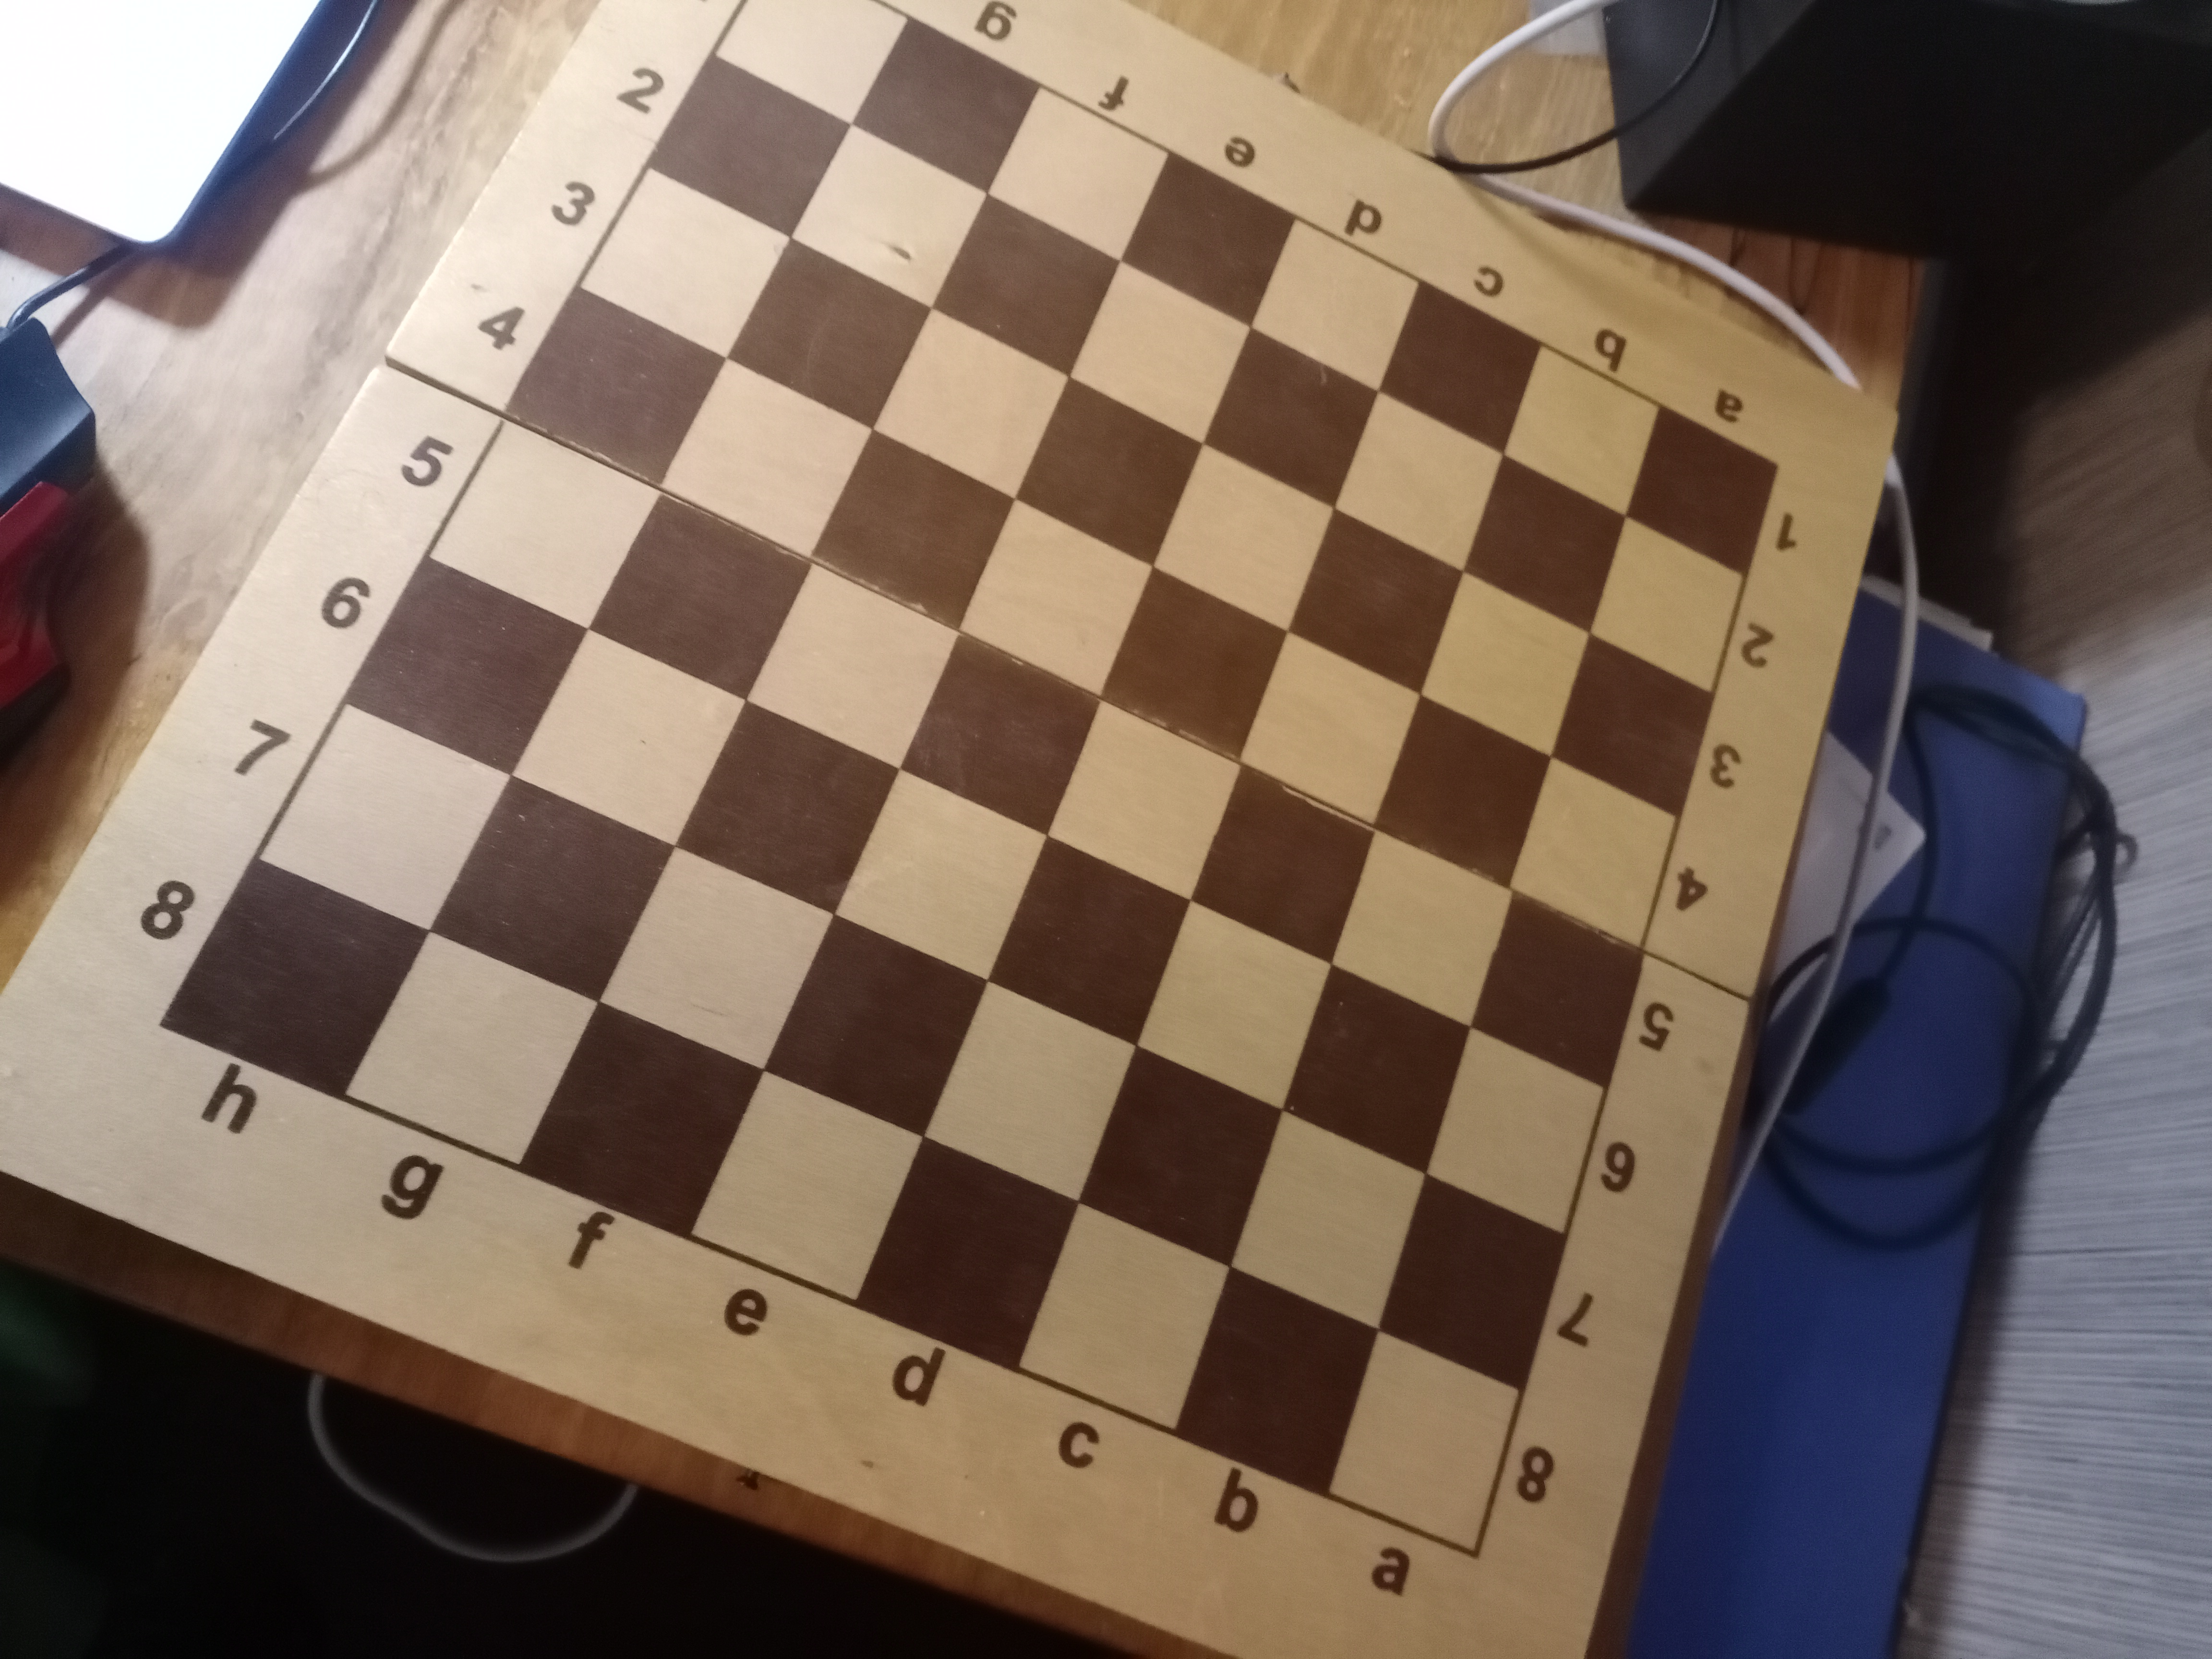Empty_White_Cell: (347, 932, 597, 1168), (260, 704, 510, 932), (599, 845, 834, 1070), (693, 1072, 923, 1300), (512, 629, 745, 845), (427, 420, 662, 627), (1017, 1204, 1231, 1429), (923, 981, 1137, 1201), (834, 769, 1047, 983), (747, 563, 960, 767), (1231, 1112, 1425, 1330), (664, 361, 874, 559), (1137, 899, 1334, 1110), (1329, 1330, 1517, 1549), (578, 169, 792, 359), (1047, 701, 1242, 901), (960, 500, 1153, 695), (874, 308, 1069, 500), (1425, 1026, 1604, 1234), (791, 124, 988, 310), (1334, 829, 1515, 1028), (1240, 631, 1421, 828), (1153, 444, 1336, 629), (1071, 260, 1251, 444), (1510, 756, 1676, 946), (988, 87, 1169, 258), (1423, 573, 1590, 756), (1336, 392, 1503, 573), (1251, 220, 1418, 392), (1590, 516, 1743, 692), (1505, 345, 1658, 516), (714, 0, 907, 124)
